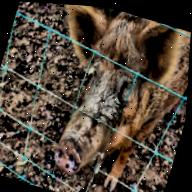boar: (8, 1, 192, 192)
